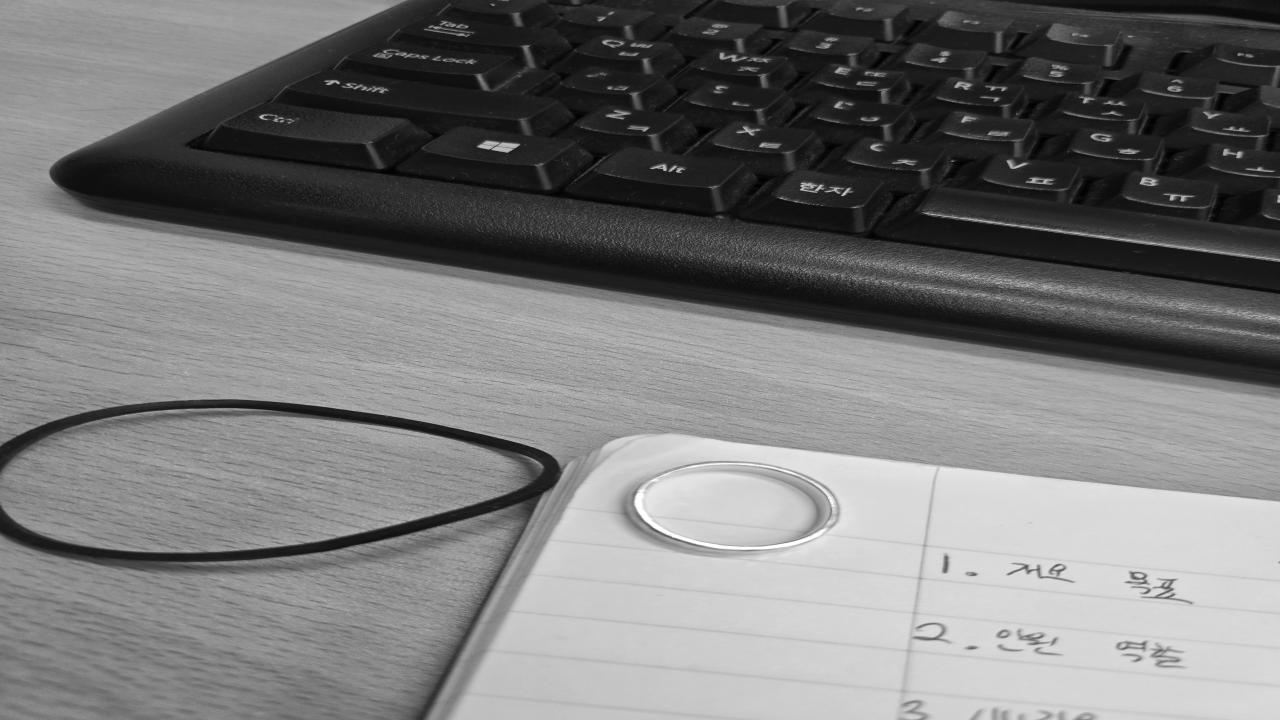ring: (621, 462, 845, 556)
